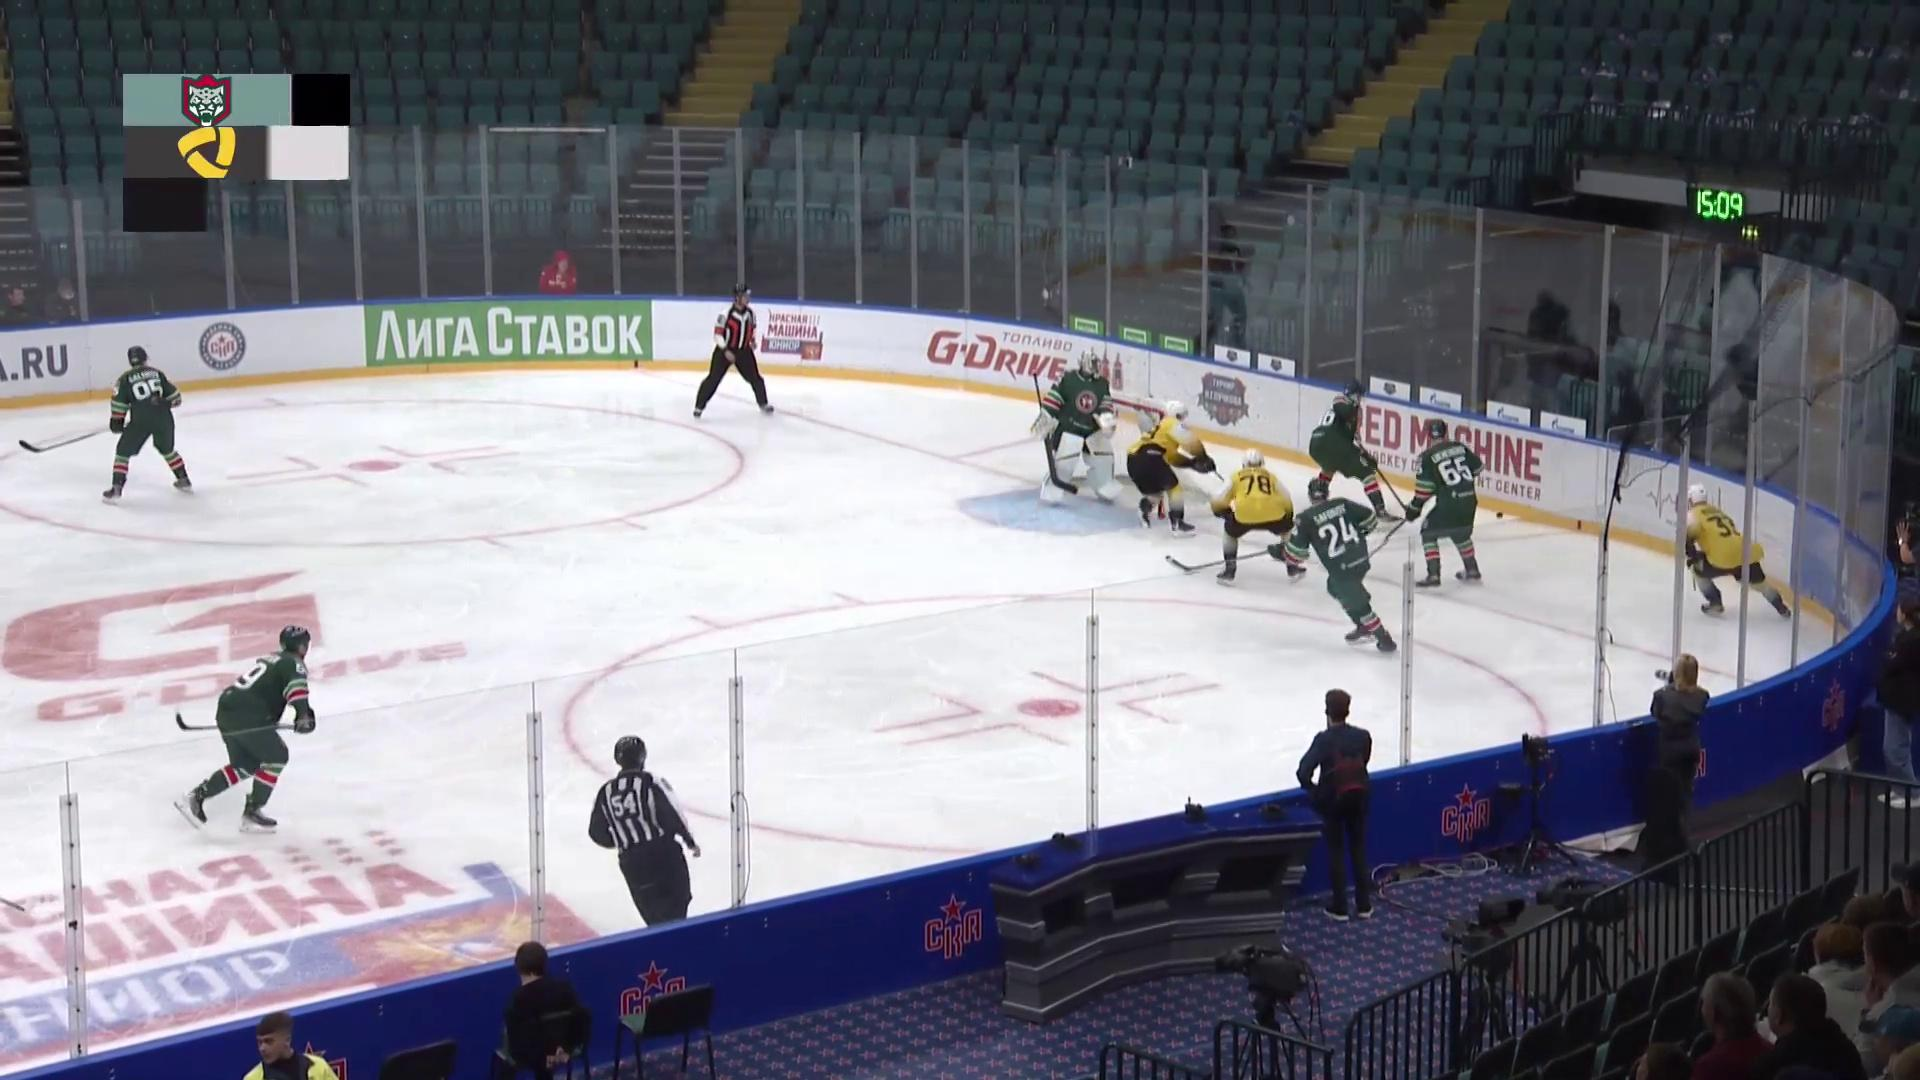ball: (1495, 510, 1505, 521)
